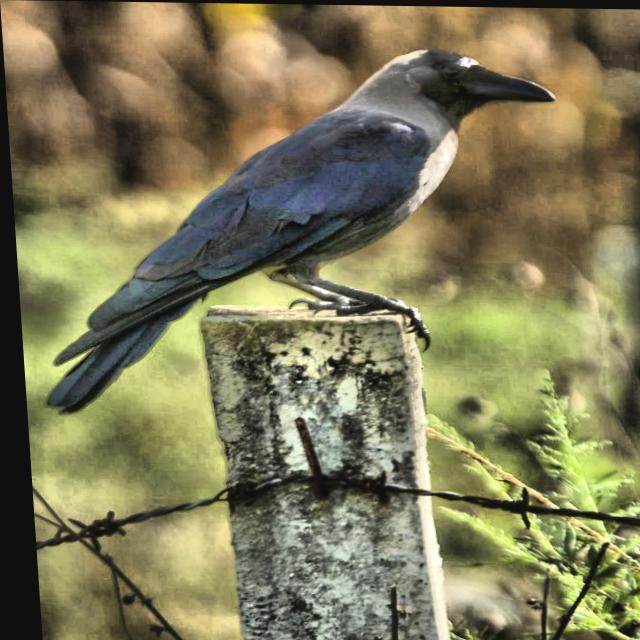crow: (19, 40, 618, 436)
